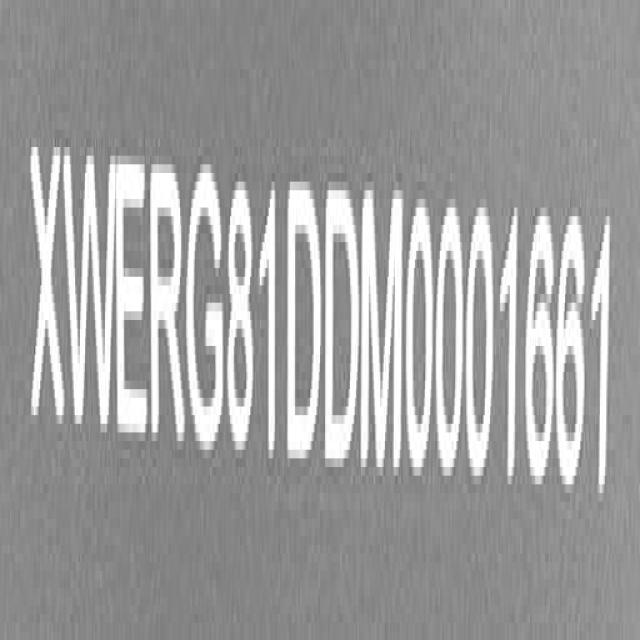0: (407, 196, 437, 484), (464, 205, 494, 490), (437, 195, 465, 483)
1: (258, 174, 283, 469), (592, 208, 615, 504), (500, 200, 523, 490)
6: (555, 211, 586, 500), (525, 204, 556, 492)
8: (224, 174, 255, 464)
D: (326, 180, 364, 476), (290, 178, 325, 474)
E: (116, 147, 150, 452)
G: (187, 160, 228, 461)
M: (363, 182, 406, 481)
R: (152, 166, 186, 455)
W: (65, 140, 117, 450)
X: (29, 132, 67, 445)
